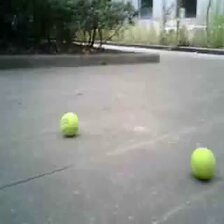tennis: (191, 147, 215, 179), (60, 113, 78, 136)
